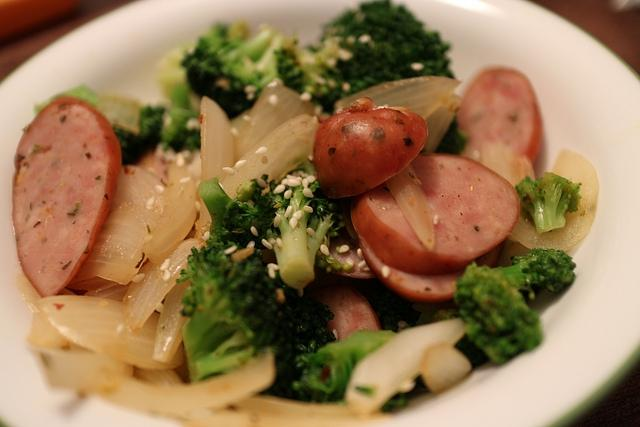broccoli: (180, 231, 336, 400), (296, 0, 455, 116), (225, 163, 342, 299), (452, 247, 576, 368), (187, 32, 285, 120), (292, 330, 398, 404), (514, 172, 582, 234), (112, 105, 166, 165), (160, 108, 200, 154), (157, 61, 190, 110), (434, 115, 468, 156)
onion: (344, 318, 467, 415), (38, 295, 184, 370), (112, 350, 274, 414), (222, 115, 320, 198), (122, 237, 207, 332), (68, 202, 160, 286), (234, 77, 319, 164), (141, 161, 200, 264), (333, 76, 462, 119), (385, 164, 438, 250), (35, 348, 134, 394), (459, 142, 536, 188), (550, 148, 599, 218), (153, 280, 191, 364), (230, 397, 356, 419), (420, 342, 472, 394), (200, 99, 233, 178), (420, 94, 462, 153), (27, 311, 72, 349), (132, 366, 188, 390), (186, 410, 260, 426), (186, 117, 201, 129)
